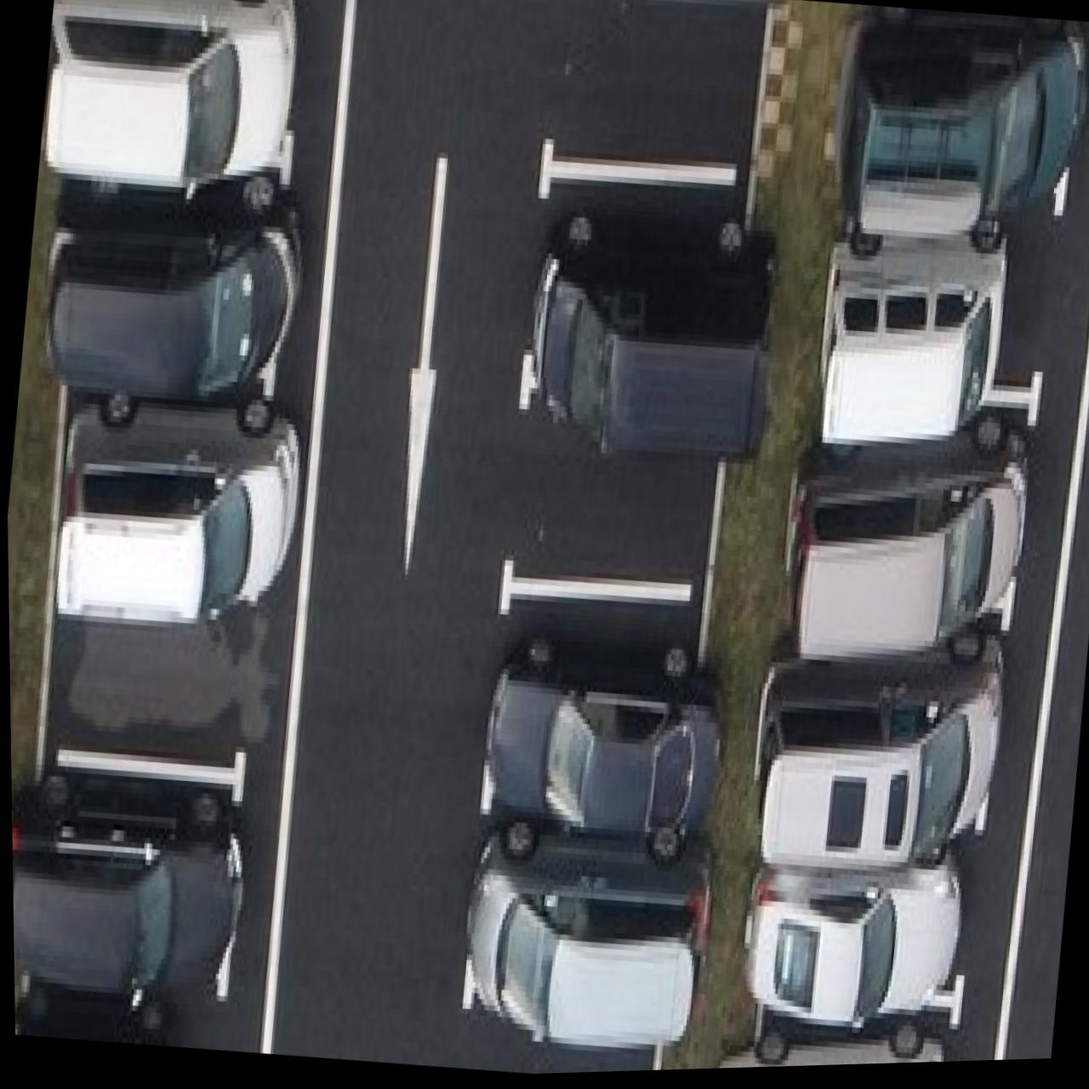cars: (45, 168, 330, 388), (41, 384, 315, 612), (517, 164, 762, 394), (26, 772, 283, 987), (49, 0, 347, 182), (480, 592, 710, 825), (458, 837, 685, 1049), (779, 620, 1011, 826), (830, 201, 1076, 394), (818, 414, 1042, 624), (871, 20, 1089, 216), (781, 843, 985, 1020)
empty: (495, 365, 727, 614), (37, 593, 300, 798), (538, 0, 776, 166)
